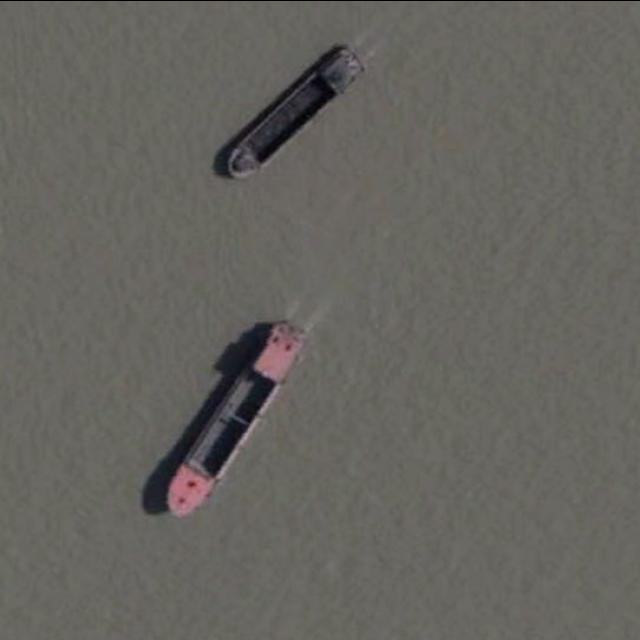ship: (163, 318, 309, 520), (215, 45, 365, 184)
